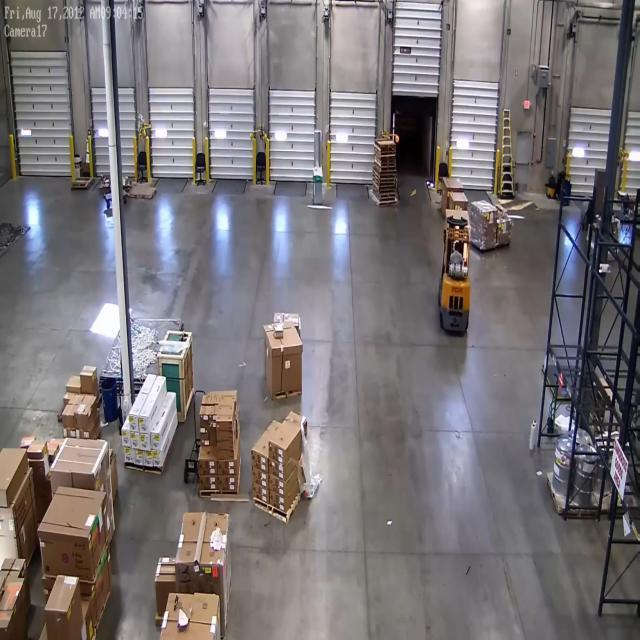driver: (450, 239, 465, 265)
forklift: (438, 216, 472, 338)
